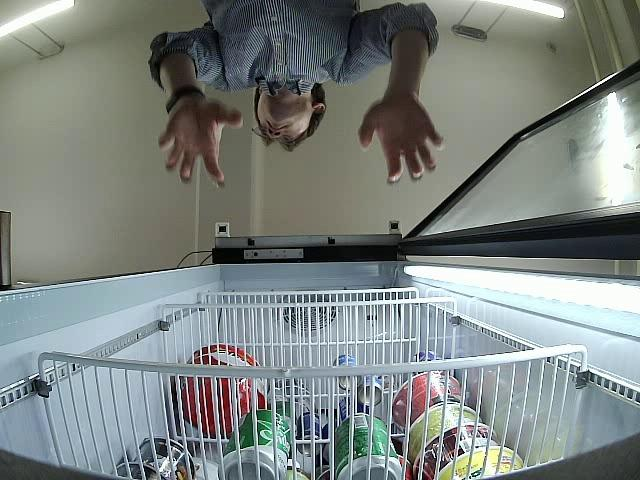00_hand: (155, 103, 245, 190), (359, 99, 446, 185)
